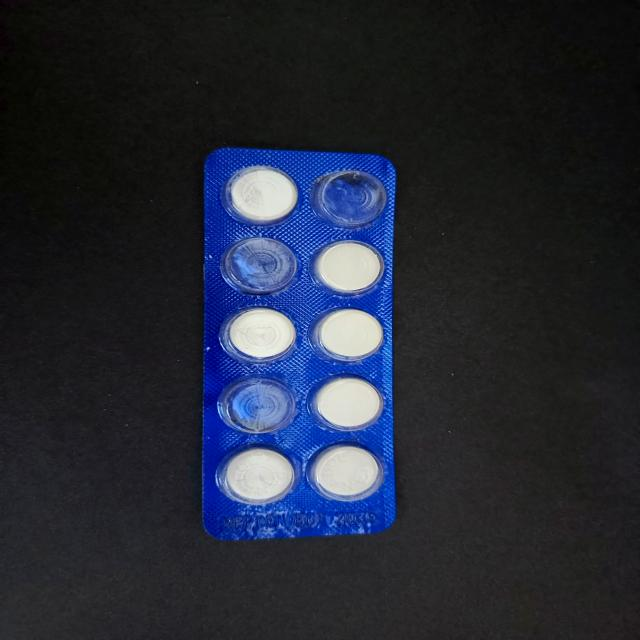defect: (214, 374, 301, 437), (307, 166, 392, 228), (220, 234, 302, 296)
